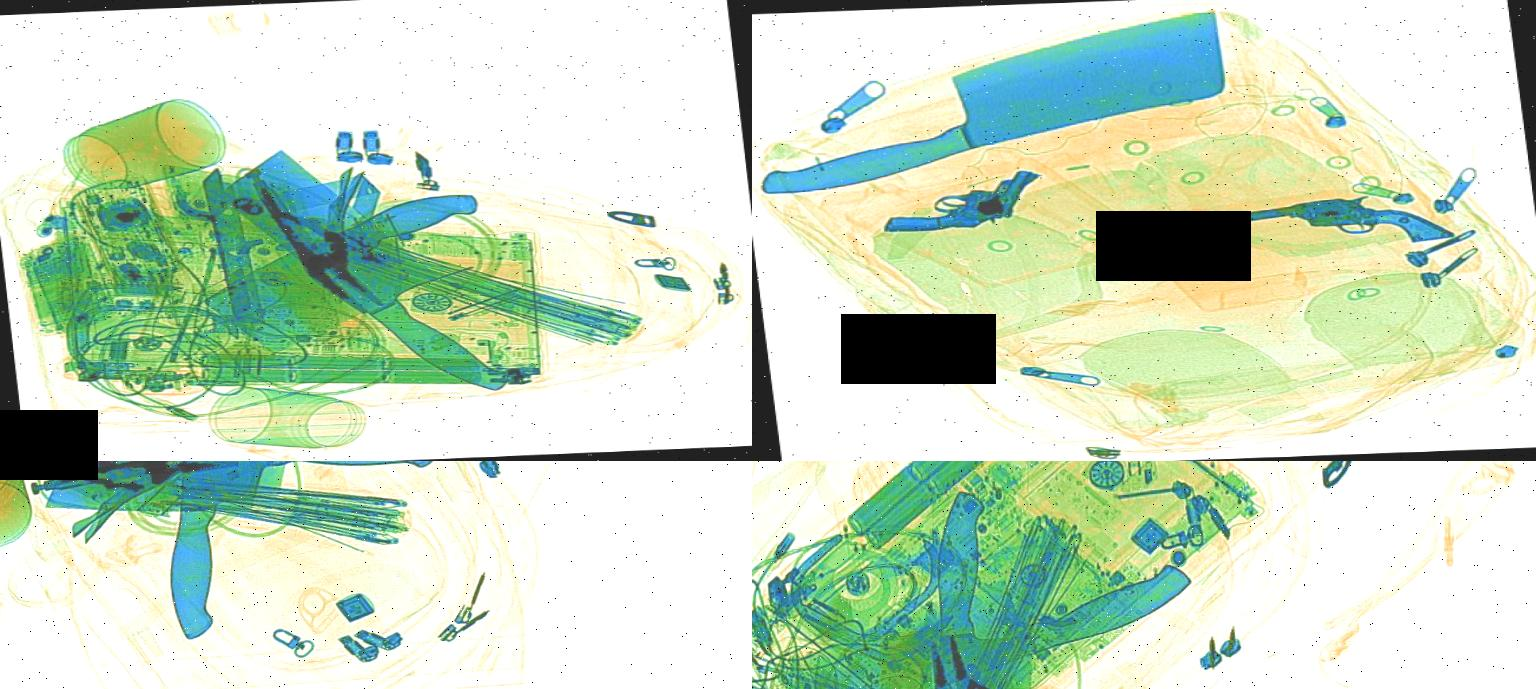Gun: (1151, 181, 1456, 275), (867, 148, 1046, 254)
Knife: (184, 138, 575, 408), (752, 6, 1279, 194), (771, 513, 1209, 689), (180, 174, 544, 358), (899, 479, 1064, 689), (32, 461, 449, 539), (148, 461, 312, 638)
